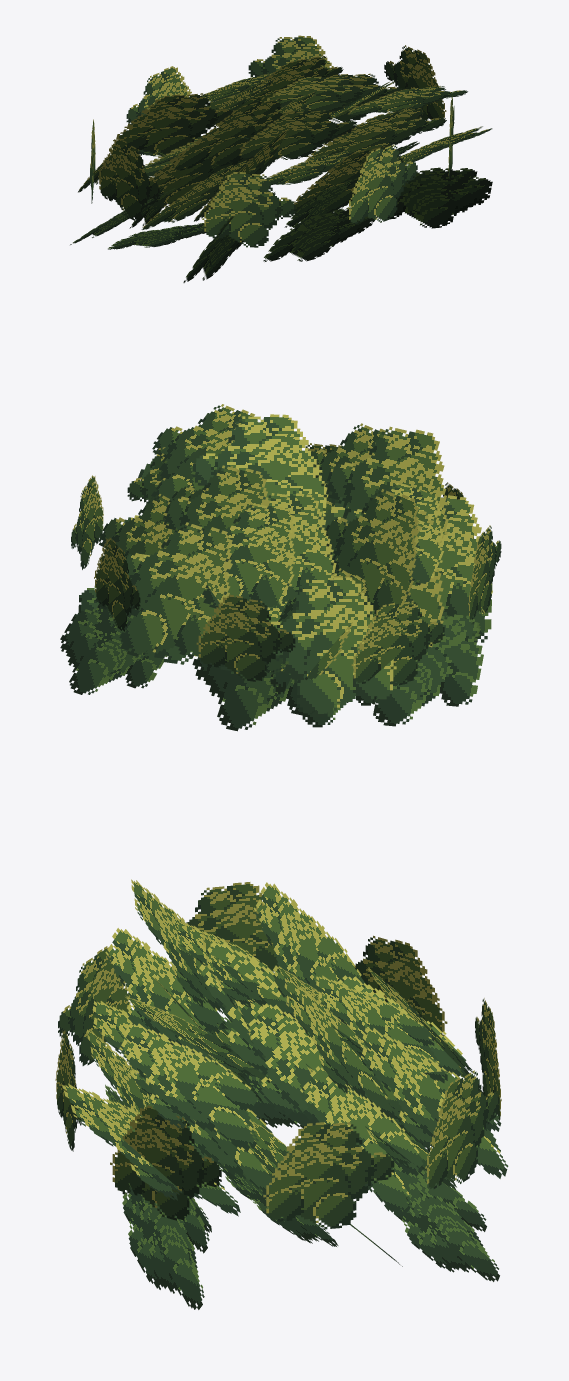
The model's file is AncientTreeCrown.glb.
3 renders of one model, top to bottom at view 1: azimuth 30°, elevation 25°; view 2: azimuth 150°, elevation 25°; view 3: azimuth 270°, elevation 25°, orthographic. The views are drawn at different scales.
Parts seen in each view (by area): view 1: AncientTreeCrown; view 2: AncientTreeCrown; view 3: AncientTreeCrown.
Boxes of the visible parts, bbox=[...] form: AncientTreeCrown: bbox=[70, 35, 492, 282]; AncientTreeCrown: bbox=[60, 404, 501, 731]; AncientTreeCrown: bbox=[55, 879, 508, 1309].
Bounding box in the file's own units: 11.2 × 5.78 × 8.54.
Materials: 2 (2 with a texture image).
